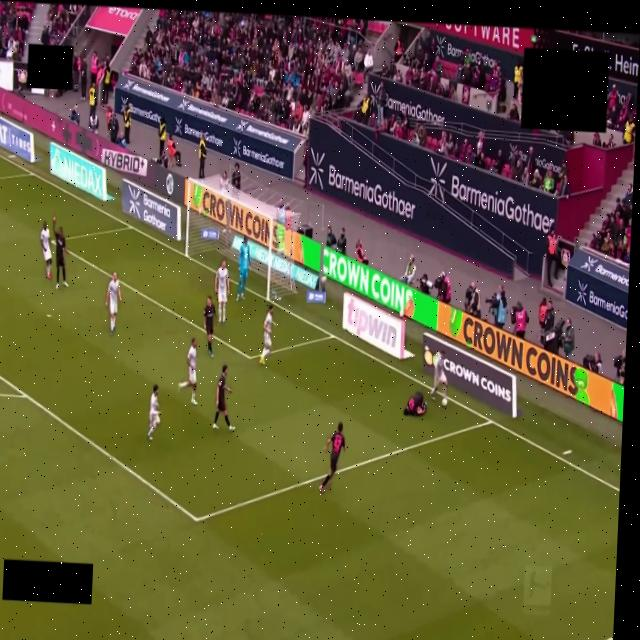ball: (441, 398, 447, 407)
player: (320, 423, 345, 493), (213, 364, 235, 431), (178, 339, 197, 405), (53, 215, 68, 289), (105, 273, 121, 335), (215, 260, 229, 324), (236, 237, 250, 300), (260, 305, 274, 365), (430, 352, 447, 399), (203, 297, 215, 357), (147, 385, 160, 440), (40, 222, 52, 279), (404, 392, 426, 416)
